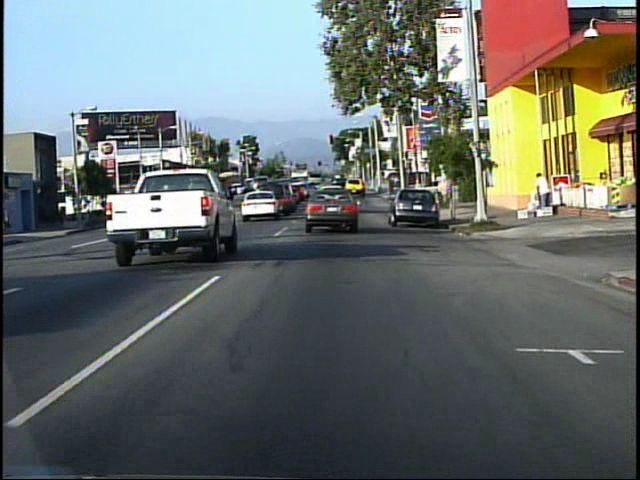person: (530, 166, 552, 209)
